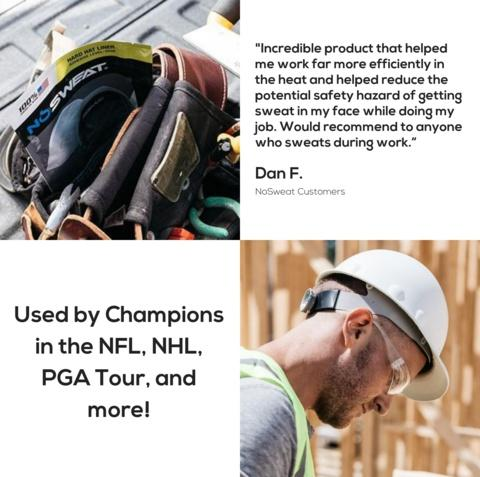helmet: (313, 250, 451, 405)
